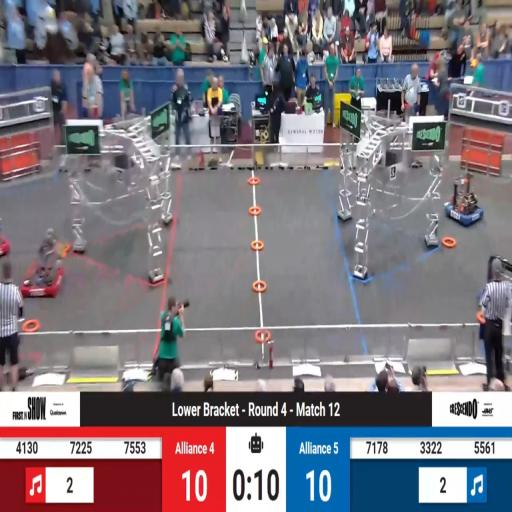robot: (21, 231, 66, 296), (446, 173, 482, 228)
